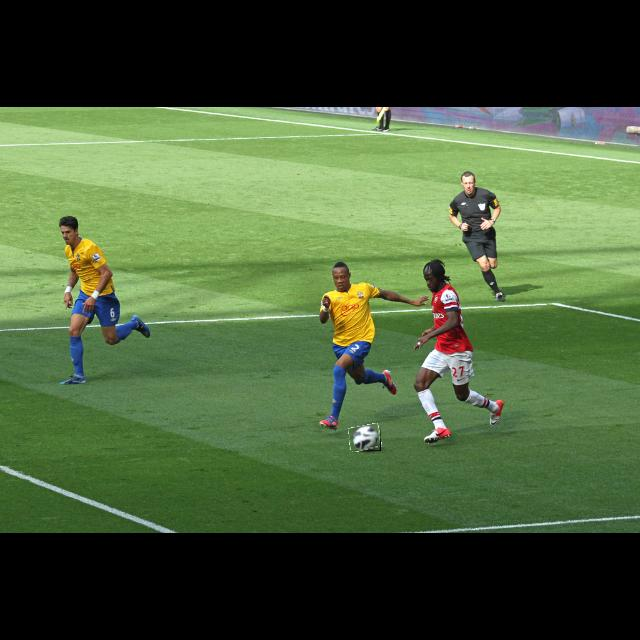Football: (349, 425, 381, 451)
